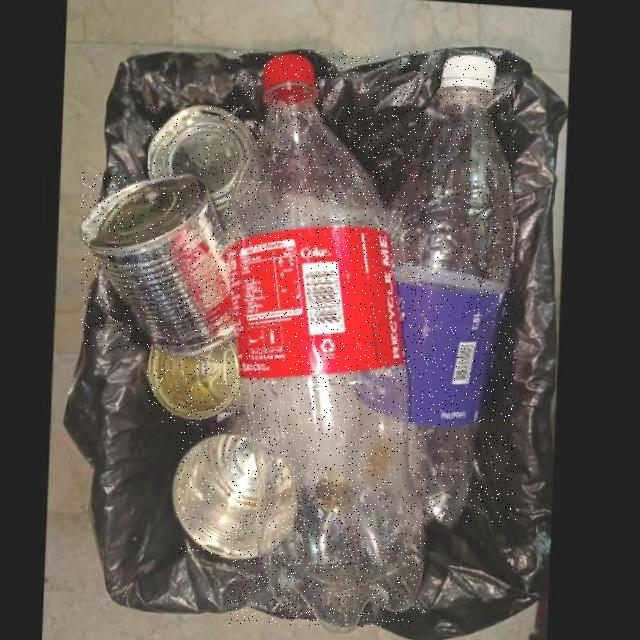metal: (82, 172, 234, 349), (149, 105, 256, 227), (177, 406, 264, 556), (147, 320, 245, 422)
plastic: (228, 52, 425, 627), (383, 50, 517, 523)
